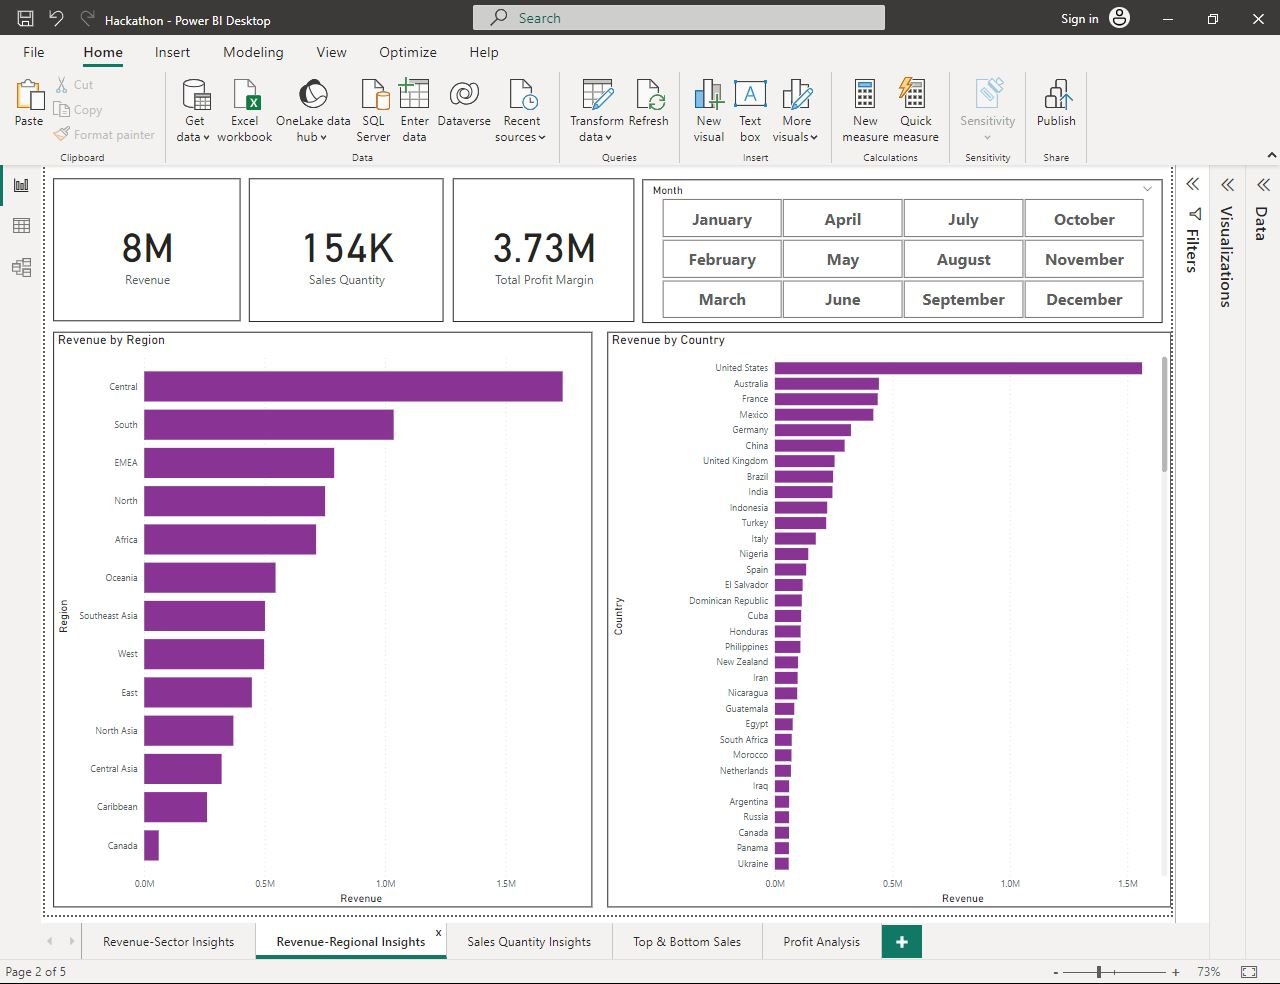

The page's visual inventory and layout, read from the dashboard file:
{"tool":"powerbi","page":{"name":"Revenue-Regional Insights","canvas":[1500,1000],"ordinal":1},"visuals":[{"type":"barChart","fields":{"Y":["BaseMeasures.Revenue"],"Category":["Sales.Country"]},"box":[801.8,225.2,685.1,763.3],"z":0},{"type":"barChart","fields":{"Y":["BaseMeasures.Revenue"],"Category":["Sales.Region"]},"box":[11,225.2,781.2,763.3],"z":1000},{"type":"card","fields":{"Values":["BaseMeasures.Sales Quantity"]},"box":[271.8,17.3,268.6,191.7],"z":2000},{"type":"card","fields":{"Values":["BaseMeasures.Revenue"]},"box":[11,17.3,248.2,191.7],"z":3000},{"type":"card","fields":{"Values":["BaseMeasures.Total Profit Margin"]},"box":[559.3,18.9,262.4,190.1],"z":4000},{"type":"slicer","title":"Revenue by Months","fields":{"Values":["Sales.Order Date.Variation.Date Hierarchy.Month"]},"box":[825.1,17.8,665.9,192.2],"z":5000}]}

Visuals, with their boxes on the page's 1500x1000 design canvas (x1, y1, x2, y2). These are canvas units, not pixel positions in the 1280x984 screenshot, which may show the page scaled, cropped or inside an application window:
barChart - BaseMeasures.Revenue x Sales.Country: <bbox>802, 225, 1487, 988</bbox>
barChart - BaseMeasures.Revenue x Sales.Region: <bbox>11, 225, 792, 988</bbox>
card - BaseMeasures.Sales Quantity: <bbox>272, 17, 540, 209</bbox>
card - BaseMeasures.Revenue: <bbox>11, 17, 259, 209</bbox>
card - BaseMeasures.Total Profit Margin: <bbox>559, 19, 822, 209</bbox>
"Revenue by Months" slicer: <bbox>825, 18, 1491, 210</bbox>
